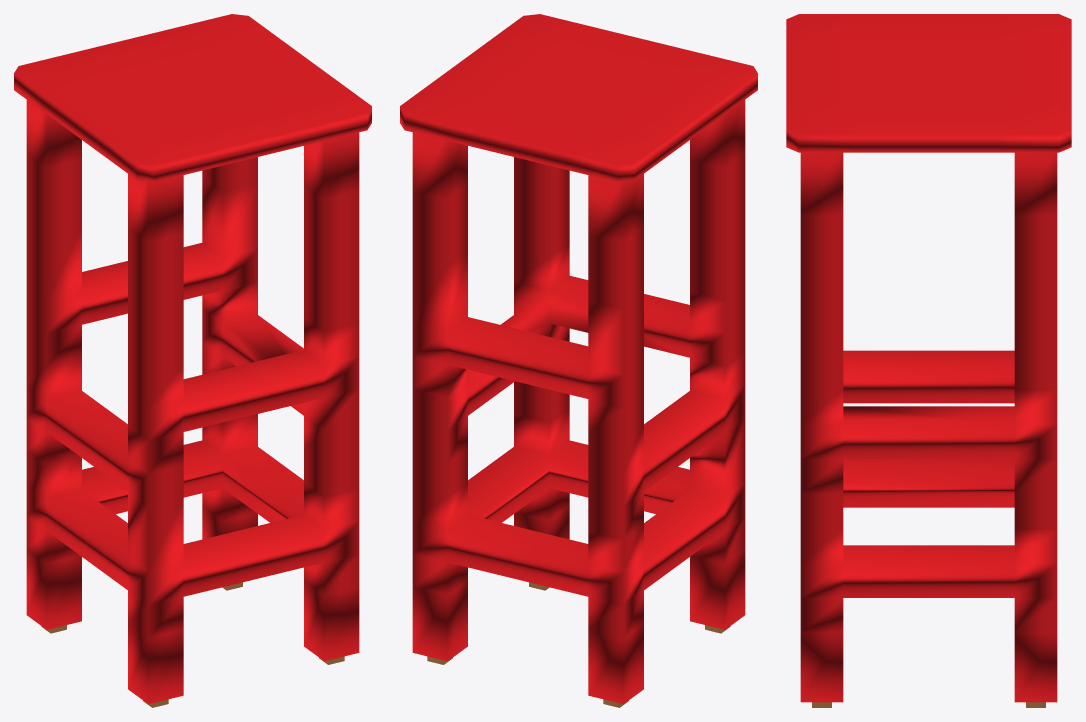
The model's file is Chair 1.fbx.
3 views of the same model, side by side, from view 1: azimuth 30°, elevation 25°; view 2: azimuth 150°, elevation 25°; view 3: azimuth 270°, elevation 25° (orthographic). The views are drawn at different scales.
Visible parts, largest first — view 1: Stool; view 2: Stool; view 3: Stool.
Part boxes in pixels (box(x1,y1,x2,y2)): Stool: box(14, 14, 371, 707); Stool: box(400, 14, 757, 707); Stool: box(786, 14, 1071, 707).
Size of the model in its own units: 400 by 903 by 400.
